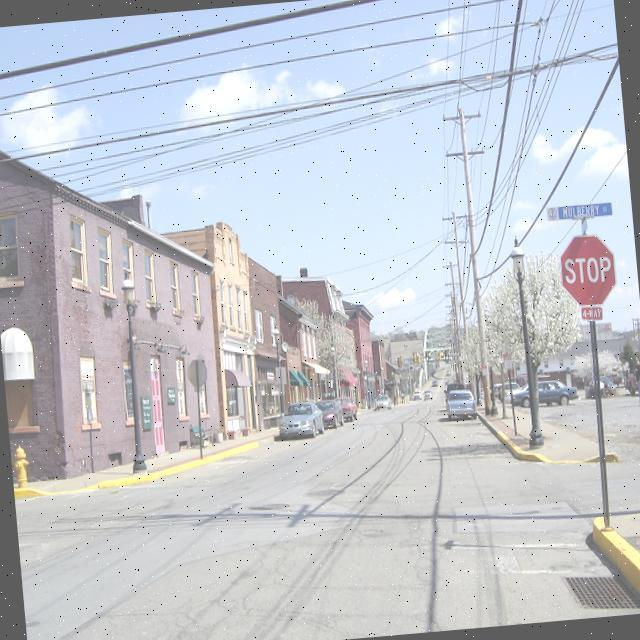fire_hydrant: (10, 443, 30, 487)
